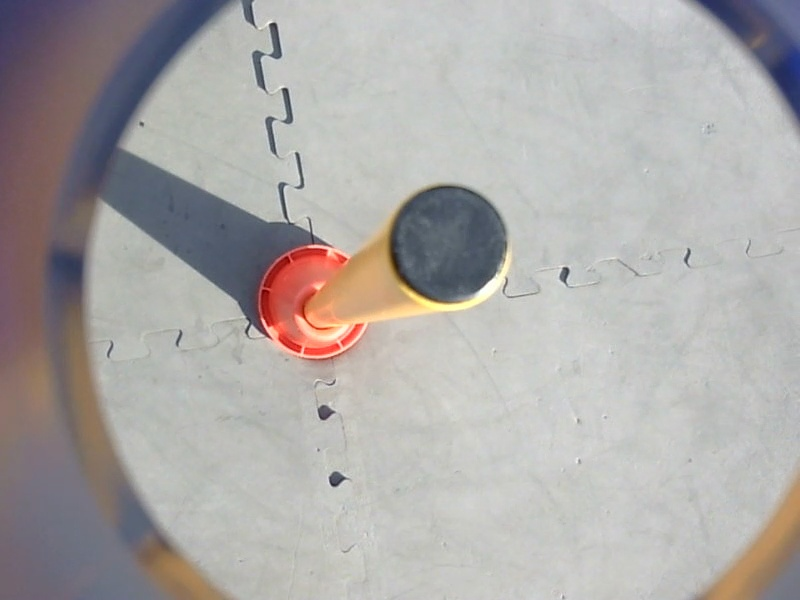tip: (378, 179, 518, 318)
